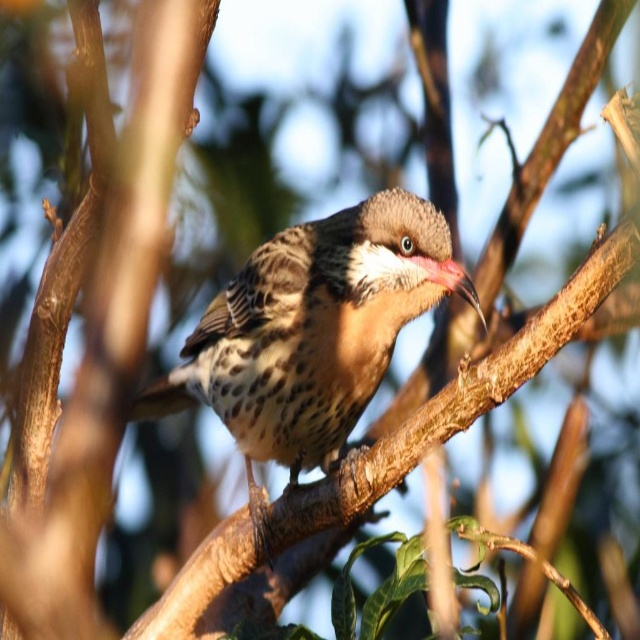Sparrow: (133, 183, 489, 509)
